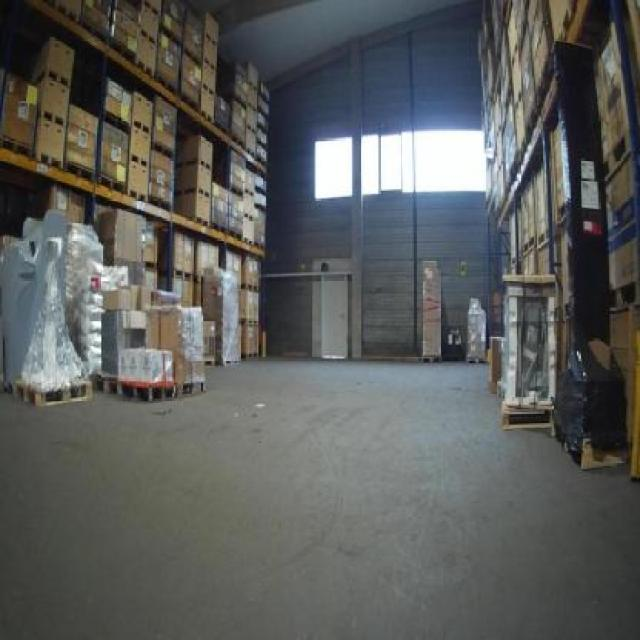pallet: (54, 157, 130, 198), (124, 371, 190, 409), (595, 133, 635, 189), (490, 408, 566, 436), (124, 178, 156, 205), (36, 114, 76, 132), (131, 112, 154, 136), (188, 213, 218, 230), (166, 268, 198, 280)
